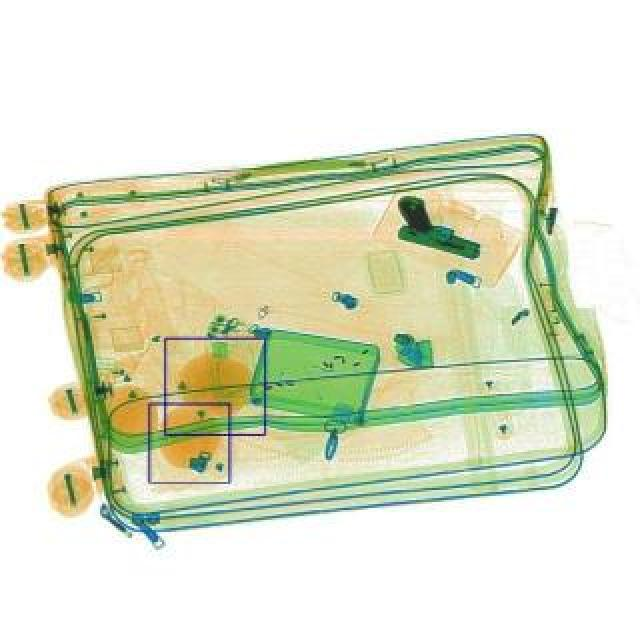gun: (386, 196, 490, 264)
